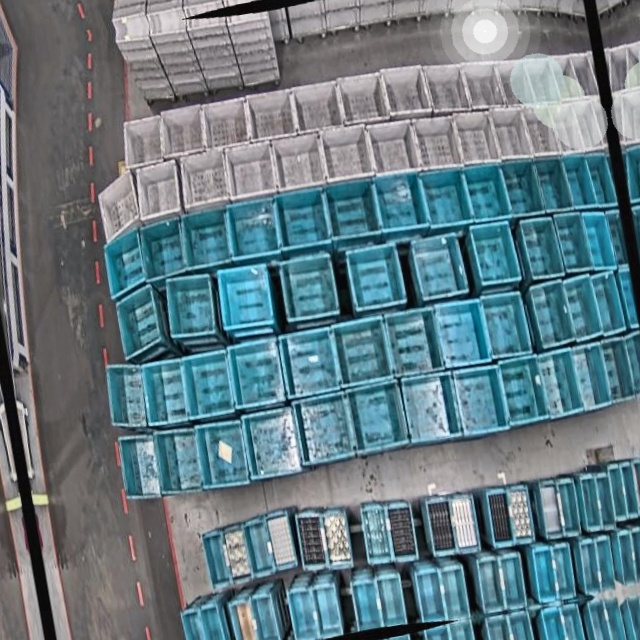Box: (276, 250, 343, 328), (343, 239, 410, 317), (212, 260, 278, 337), (329, 313, 395, 390), (224, 334, 288, 412), (276, 326, 342, 401), (242, 404, 305, 482), (192, 414, 254, 492), (409, 230, 472, 305), (111, 283, 170, 363), (347, 379, 409, 455), (297, 390, 358, 467), (270, 184, 335, 255), (179, 346, 239, 421), (146, 423, 205, 498), (158, 270, 220, 341), (223, 194, 284, 265), (319, 177, 381, 246), (268, 130, 330, 199), (433, 296, 490, 370), (400, 372, 456, 446), (135, 355, 191, 429), (222, 139, 282, 208), (174, 148, 233, 218), (113, 428, 168, 503), (384, 307, 440, 380), (315, 122, 376, 189), (370, 169, 429, 238), (176, 203, 234, 273), (450, 365, 506, 437), (136, 213, 193, 283), (127, 159, 187, 225), (479, 288, 532, 361), (99, 230, 152, 303), (496, 355, 549, 428), (101, 358, 151, 435), (415, 164, 472, 231), (468, 219, 521, 290), (365, 117, 422, 183), (94, 169, 143, 245), (333, 67, 392, 130), (289, 77, 348, 140), (243, 83, 302, 145), (196, 93, 254, 156), (118, 111, 175, 174), (380, 59, 435, 123), (526, 280, 576, 349), (410, 112, 463, 177), (157, 103, 211, 165), (460, 161, 511, 226), (516, 214, 563, 282), (457, 54, 508, 116), (421, 57, 472, 119), (450, 108, 500, 168), (498, 156, 543, 219), (488, 105, 534, 165), (547, 348, 586, 417), (570, 344, 610, 411), (531, 153, 574, 215), (559, 276, 600, 341), (551, 211, 592, 275), (519, 103, 563, 162), (293, 508, 331, 574), (589, 271, 627, 336), (598, 338, 636, 403), (519, 52, 562, 109), (240, 516, 278, 580), (359, 500, 396, 565), (546, 100, 587, 158), (264, 508, 301, 572), (316, 505, 352, 570), (383, 498, 418, 564), (495, 57, 536, 113), (561, 149, 598, 211), (580, 210, 616, 272), (222, 524, 256, 588), (423, 495, 457, 558), (447, 492, 481, 555), (200, 530, 234, 593), (413, 565, 449, 624), (484, 485, 517, 549), (436, 563, 470, 622), (545, 51, 582, 105), (505, 482, 536, 545), (286, 585, 321, 640), (570, 99, 605, 154), (351, 576, 385, 632), (475, 555, 507, 614), (586, 150, 618, 208), (310, 586, 344, 640), (535, 478, 565, 539), (529, 545, 560, 604), (374, 575, 408, 628), (497, 552, 528, 610), (549, 545, 578, 604), (574, 537, 602, 597), (556, 476, 584, 535), (570, 50, 601, 103), (604, 209, 630, 271), (250, 592, 283, 640), (579, 471, 605, 531), (592, 536, 619, 593), (617, 267, 640, 331), (606, 461, 630, 521), (228, 596, 260, 640), (614, 530, 638, 587), (618, 459, 640, 519), (196, 602, 229, 640), (624, 330, 640, 396), (180, 608, 208, 640), (148, 18, 189, 38), (185, 12, 227, 31), (113, 25, 152, 44), (627, 528, 640, 584), (225, 9, 269, 25), (631, 458, 640, 516), (637, 525, 640, 581)
